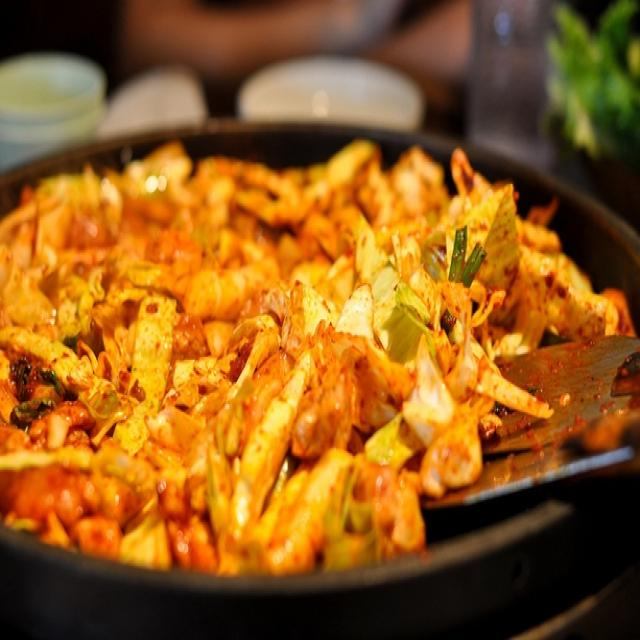鸡肉料理 含炸鸡: (25, 101, 608, 569)
